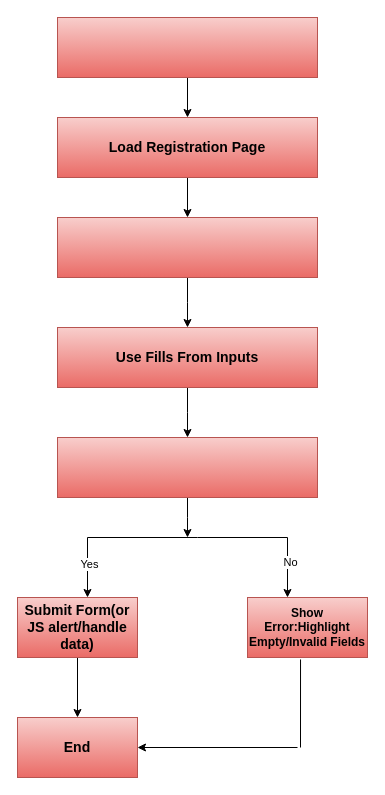
Some shapes in this 385 by 795 pixel diagram are drawn without their labels. Here are the shapes that lost their labels. From the top down, the centre of each, then its label:
At (187,47): "Start".
At (187,247): "Display Registration Form".
At (187,467): "Click on Register Button".
